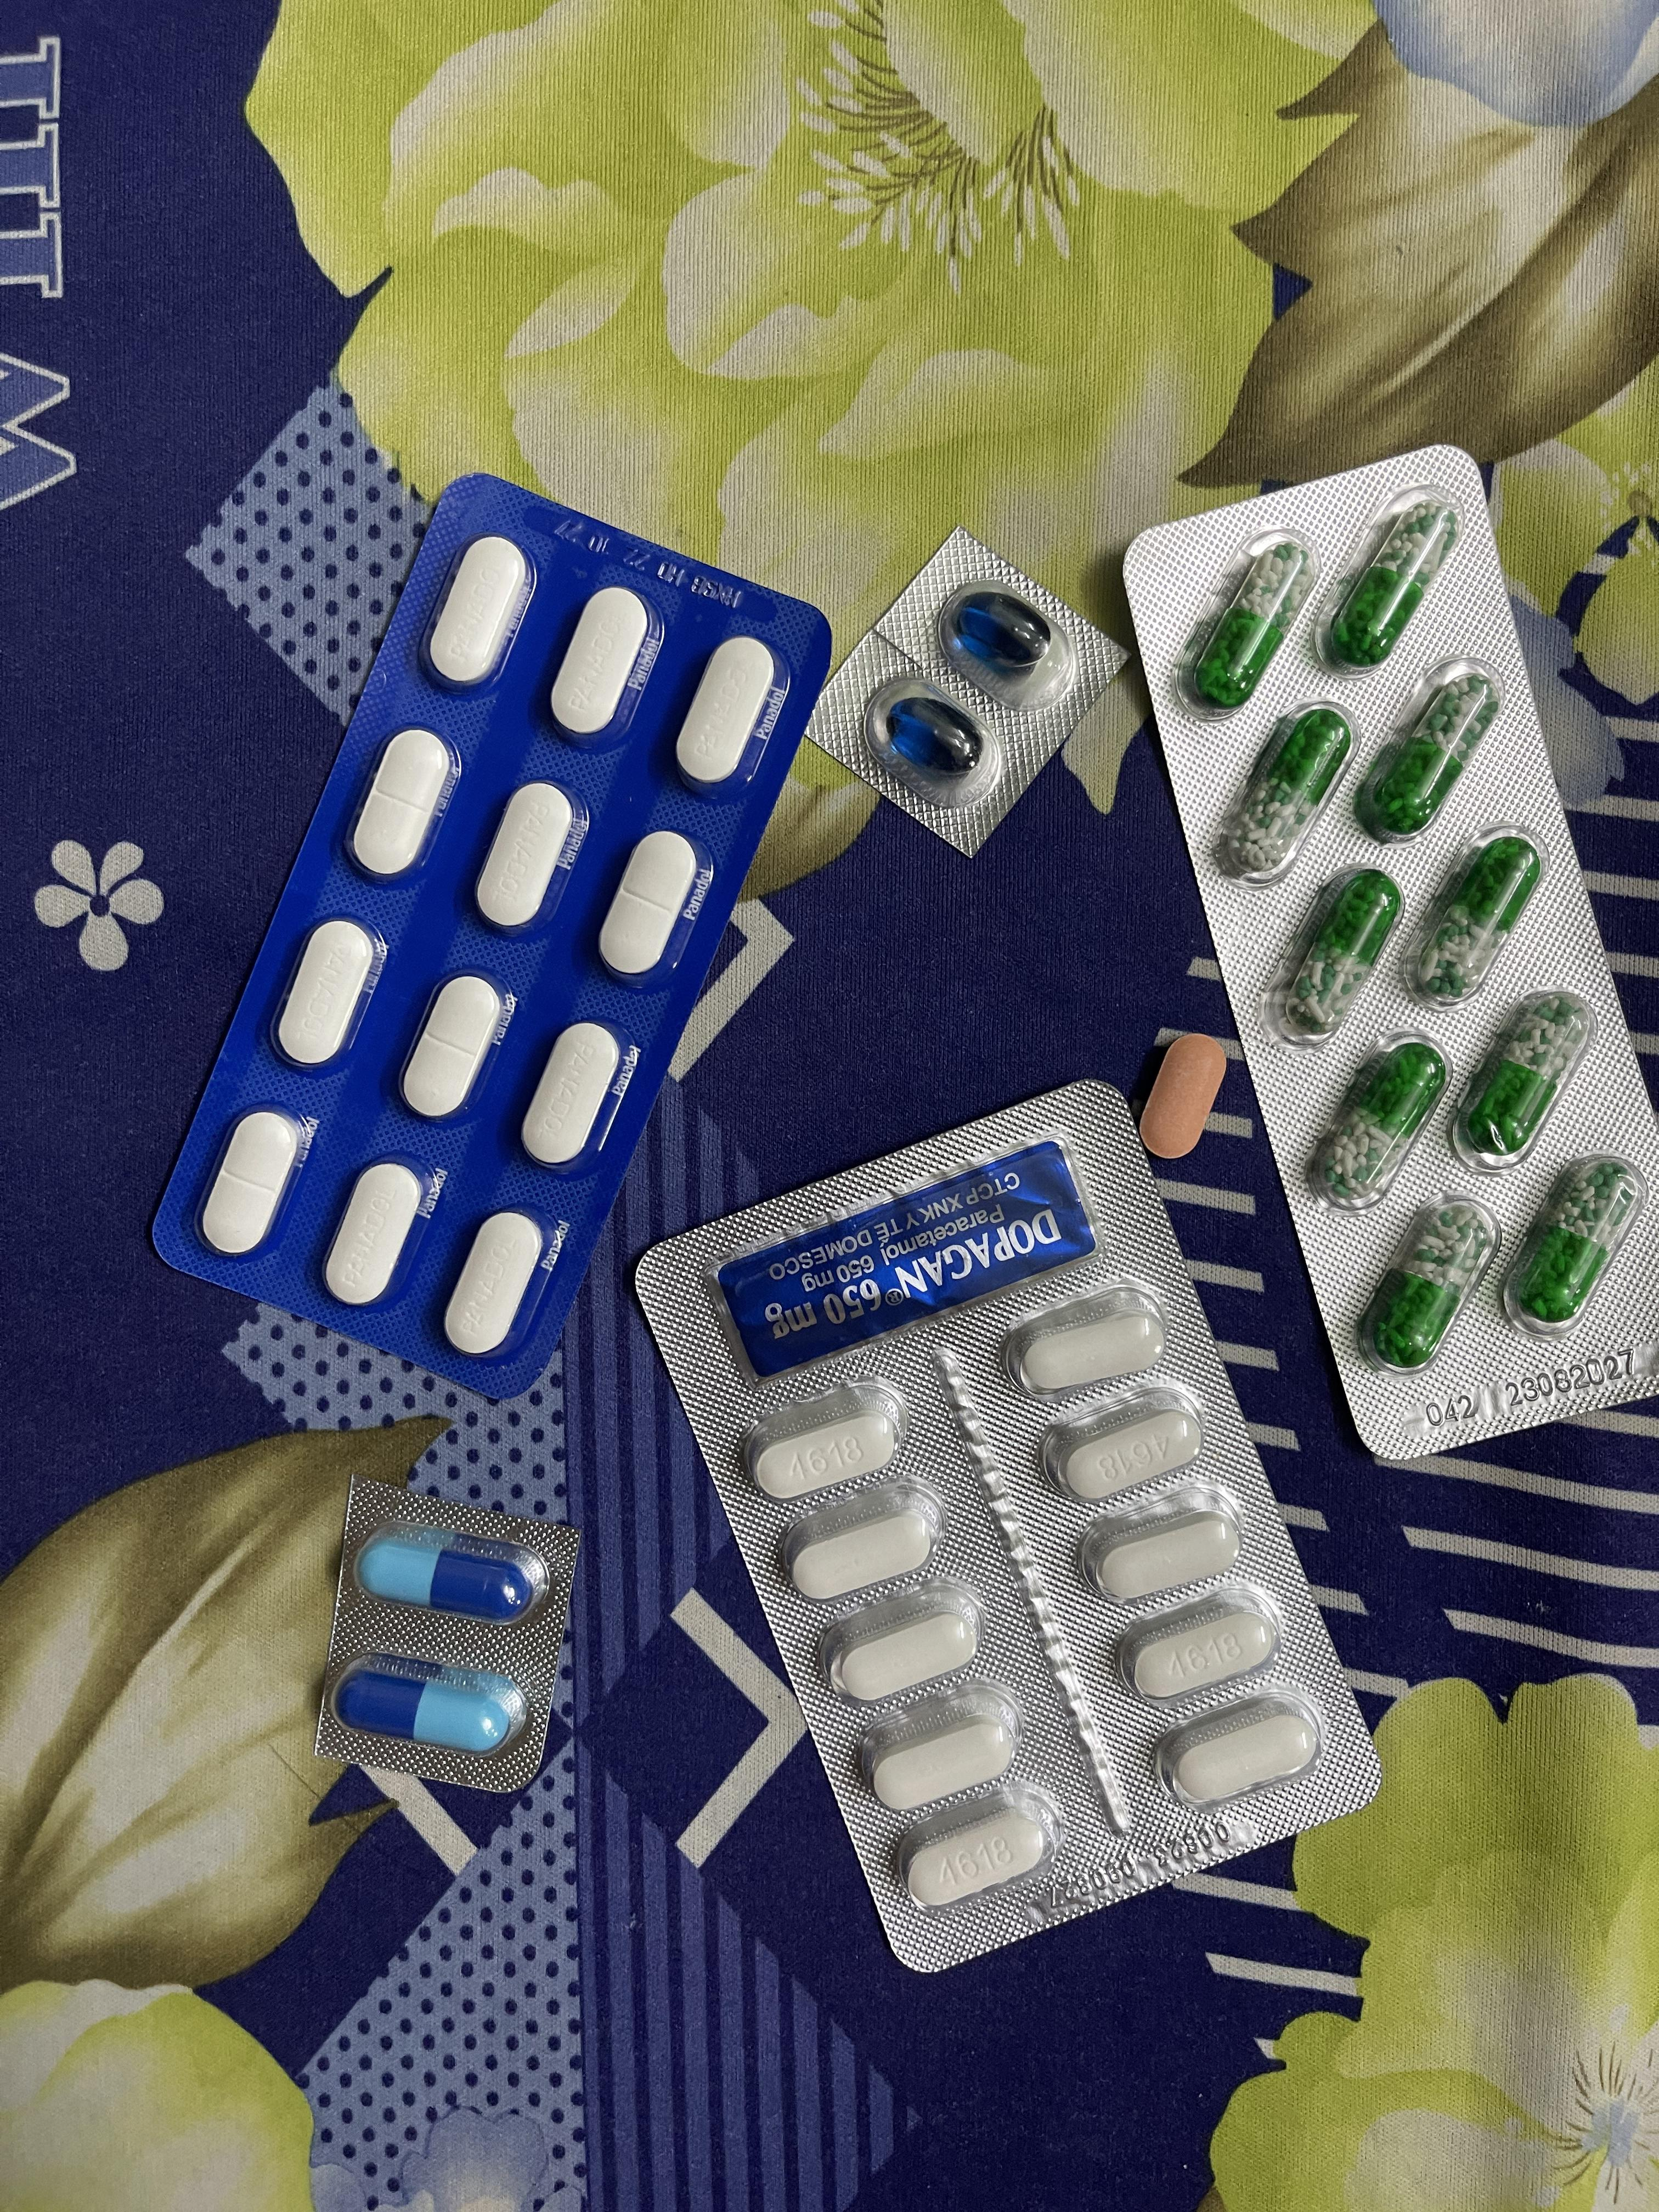Lincomyxin_500mg: (888, 695, 984, 775), (955, 594, 1048, 667)
Loratadine_10mg: (1139, 1035, 1224, 1157)
Paracetamol_350mg: (423, 535, 535, 693), (548, 586, 657, 742), (273, 917, 382, 1071), (347, 729, 455, 883), (471, 783, 580, 935), (398, 971, 506, 1121), (674, 635, 778, 790), (596, 830, 701, 983), (520, 1021, 625, 1171), (444, 1212, 550, 1357), (323, 1159, 429, 1304), (200, 1108, 304, 1254)
Paracetamol_500mg: (1157, 1688, 1323, 1816), (809, 1570, 978, 1696), (747, 1378, 911, 1508), (856, 1681, 1024, 1807), (1041, 1390, 1209, 1509), (1073, 1482, 1243, 1600), (902, 1808, 1048, 1914), (1130, 1609, 1282, 1699), (791, 1512, 939, 1603), (1021, 1311, 1159, 1393)
Paracetamol_650mg: (1356, 660, 1508, 848), (1447, 994, 1599, 1171), (1498, 1156, 1645, 1338), (1355, 1194, 1497, 1373), (1401, 825, 1548, 998), (1209, 704, 1352, 881), (1321, 493, 1461, 673), (1181, 532, 1314, 714), (1261, 867, 1400, 1041), (1320, 1038, 1447, 1200)
pill: (327, 1652, 535, 1758), (354, 1524, 550, 1621)
